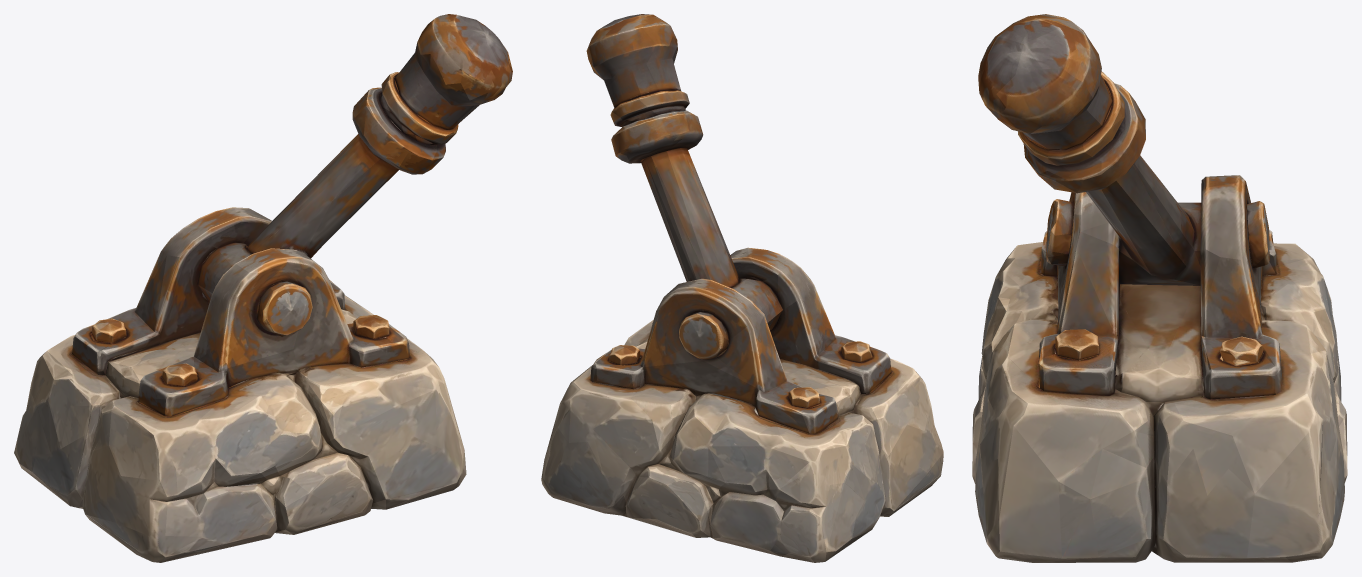
Rendered from floor-lever.hq.glb.
3 renders of one model, left to right at view 1: azimuth 30°, elevation 25°; view 2: azimuth 150°, elevation 25°; view 3: azimuth 270°, elevation 25°, orthographic. The views are drawn at different scales.
Visible parts, largest first — view 1: output_unwrapped; view 2: output_unwrapped; view 3: output_unwrapped.
Part boxes in pixels (bbox=[...]): output_unwrapped: bbox=[14, 14, 512, 562]; output_unwrapped: bbox=[541, 14, 943, 562]; output_unwrapped: bbox=[972, 14, 1347, 562].
Bounding box in the file's own units: 1.68 × 1.9 × 1.18.
1 material, 1 textured.
